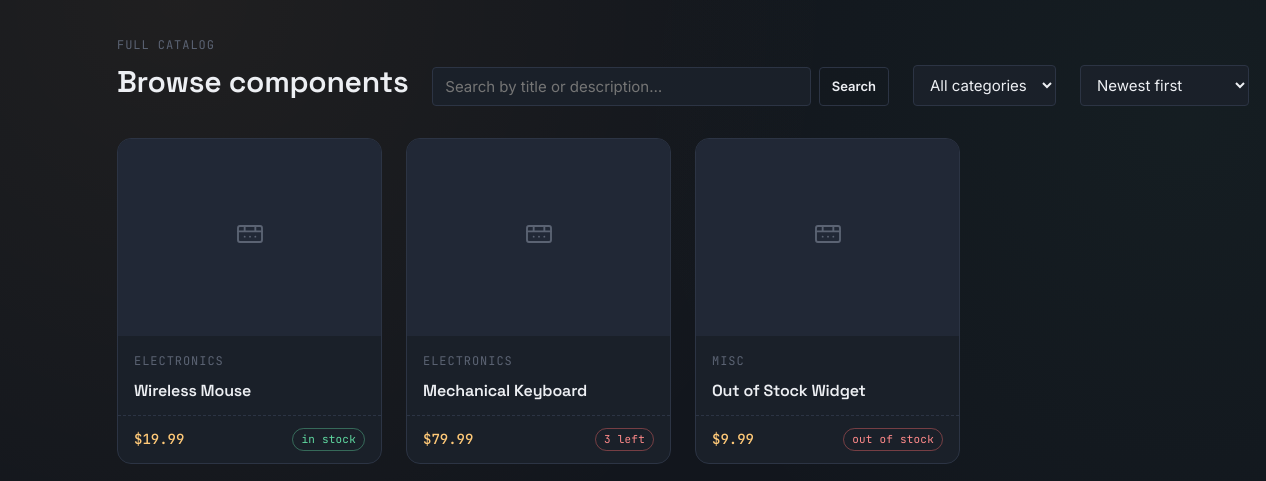
Scenario: HomePage › filters products by search term
This screenshot has width=1266, height=481.
Expected: the heading "Wireless Mouse" is shown, x1=134 y1=380 x2=251 y2=401
In the search field with placeholder "Search by title or description…": (622, 86) x1=432 y1=67 x2=811 y2=106, type "Keyboard"
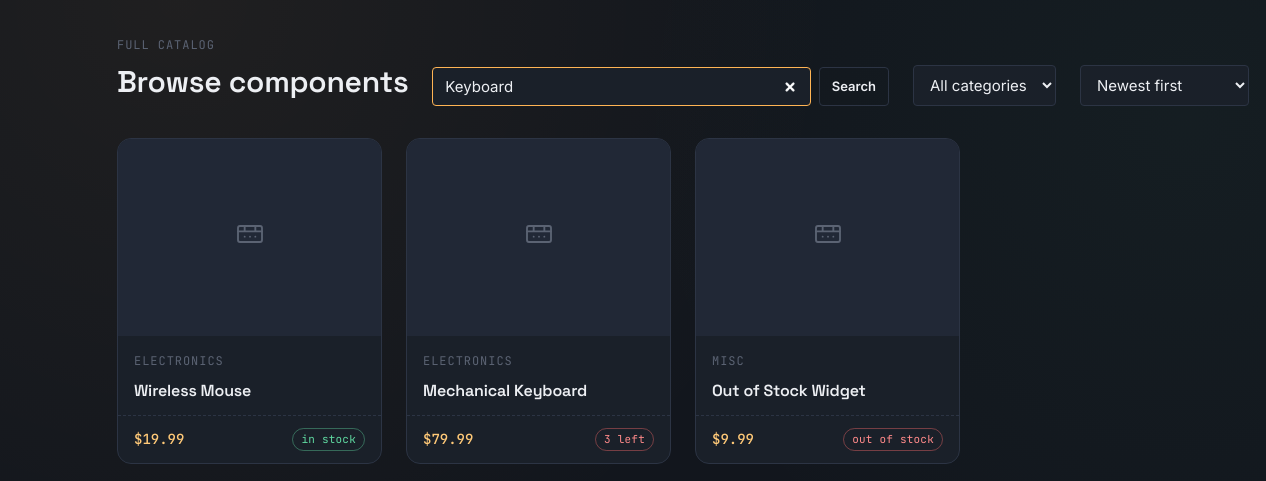
Click the button "Search": click(854, 86) x1=819 y1=67 x2=889 y2=106
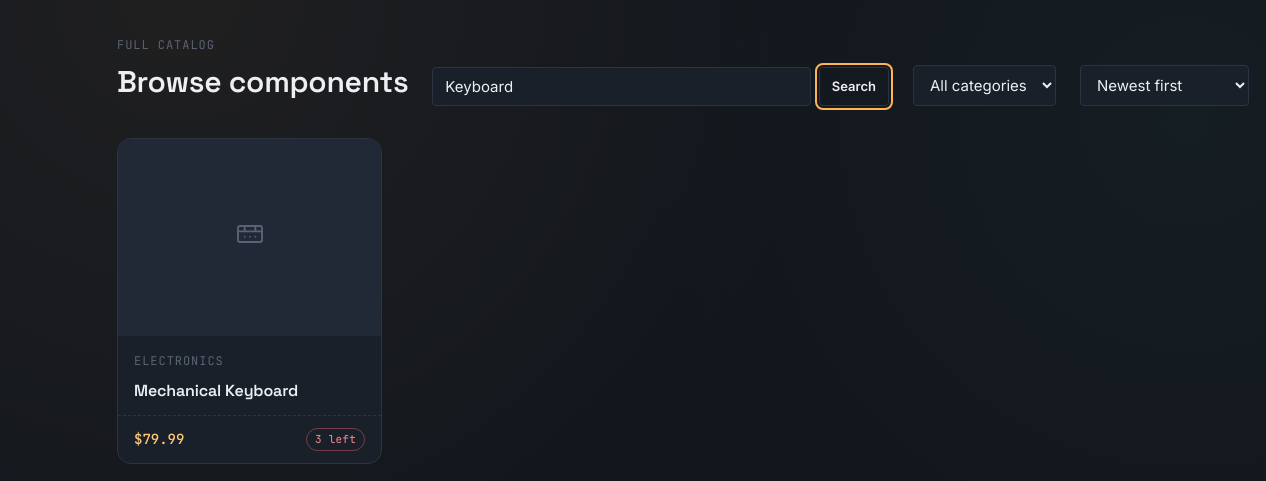
Expected: the heading "Mechanical Keyboard" is shown, x1=134 y1=380 x2=298 y2=401
Now the link "Wireless Mouse" is gone
